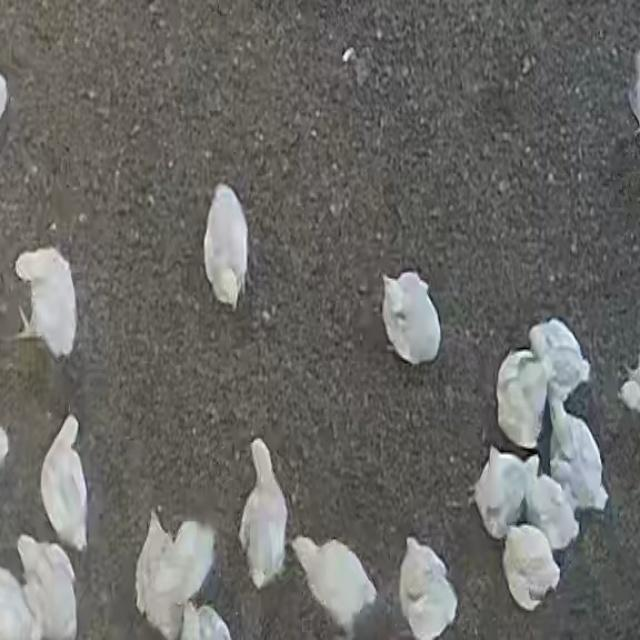chicken: (290, 535, 373, 633), (545, 392, 609, 516), (12, 246, 79, 362), (14, 536, 80, 640), (40, 416, 90, 552), (239, 440, 285, 585), (380, 265, 442, 366), (398, 538, 458, 640), (136, 508, 181, 638), (206, 182, 248, 308), (502, 523, 562, 611), (492, 349, 542, 448), (473, 450, 533, 532), (161, 522, 212, 601), (531, 325, 587, 395), (526, 481, 581, 552), (0, 568, 38, 639), (182, 600, 231, 640)
